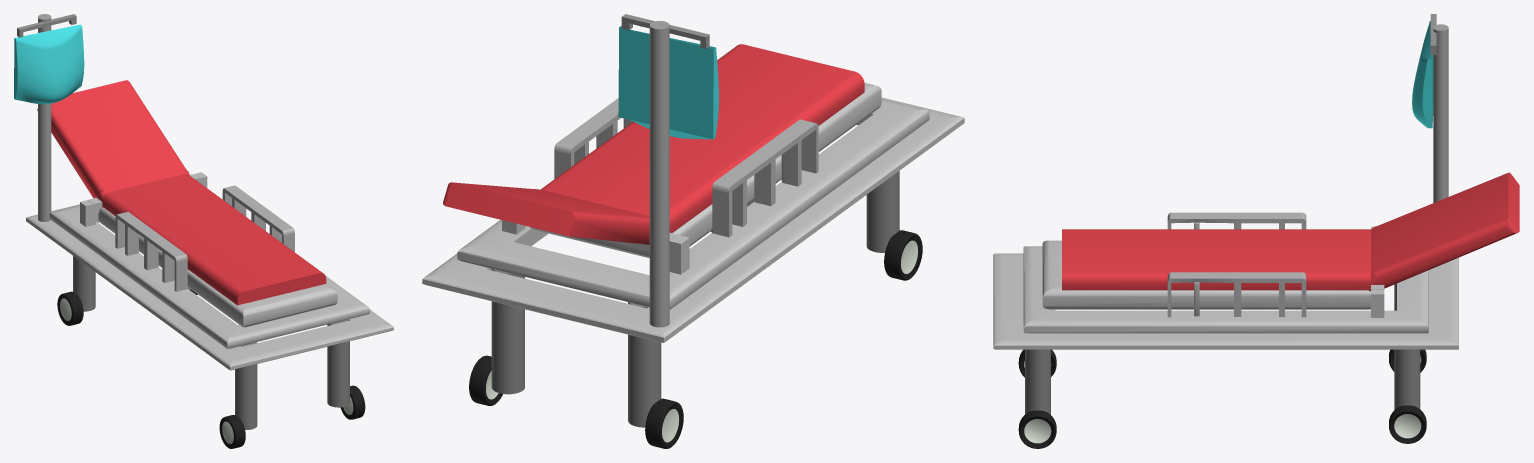
The model's file is Gurney.fbx.
3 renders of one model, left to right at view 1: azimuth 30°, elevation 25°; view 2: azimuth 150°, elevation 25°; view 3: azimuth 270°, elevation 25°, orthographic. The views are drawn at different scales.
Visible parts, largest first — view 1: Bed, BedFrame, Cube.001, ArmBar, Feet, Wheels, Cylinder, Cube; view 2: BedFrame, Bed, ArmBar, Feet, Cube.001, Cylinder, Wheels, Cube; view 3: BedFrame, Bed, ArmBar, Feet, Wheels, Cylinder, Cube.001.
Part boxes in pixels (x1=…): Bed: x1=37, y1=80, x2=326, y2=305; BedFrame: x1=26, y1=172, x2=393, y2=370; Cube.001: x1=14, y1=24, x2=84, y2=104; ArmBar: x1=115, y1=185, x2=294, y2=291; Feet: x1=73, y1=256, x2=349, y2=429; Wheels: x1=57, y1=287, x2=365, y2=448; Cylinder: x1=38, y1=14, x2=51, y2=221; Cube: x1=17, y1=14, x2=76, y2=37; BedFrame: x1=422, y1=83, x2=964, y2=342; Bed: x1=443, y1=44, x2=864, y2=244; ArmBar: x1=554, y1=98, x2=818, y2=237; Feet: x1=491, y1=171, x2=899, y2=427; Cube.001: x1=618, y1=26, x2=718, y2=139; Cylinder: x1=649, y1=21, x2=669, y2=327; Wheels: x1=469, y1=230, x2=922, y2=448; Cube: x1=621, y1=14, x2=709, y2=48; BedFrame: x1=993, y1=226, x2=1458, y2=349; Bed: x1=1062, y1=172, x2=1519, y2=291; ArmBar: x1=1167, y1=212, x2=1306, y2=317; Feet: x1=1025, y1=283, x2=1420, y2=414; Wheels: x1=1018, y1=349, x2=1426, y2=448; Cylinder: x1=1433, y1=24, x2=1448, y2=202; Cube.001: x1=1412, y1=21, x2=1433, y2=128.
Bounding box in the file's own units: 347 × 539 × 742.
